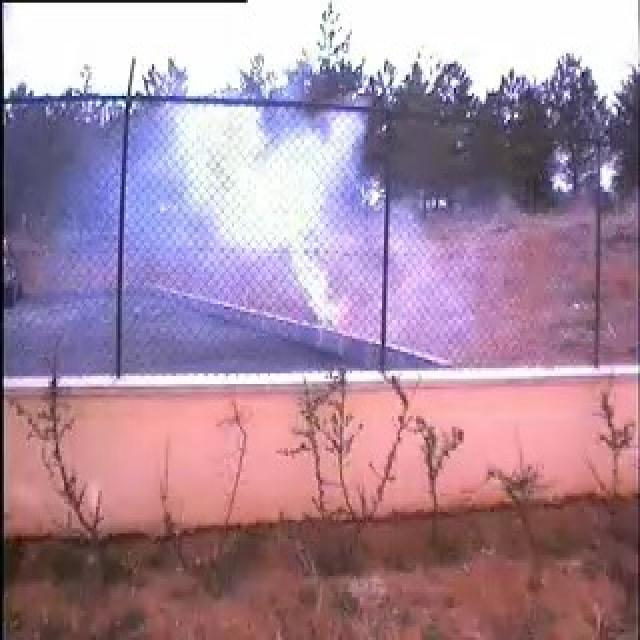smoke: (130, 95, 432, 353)
